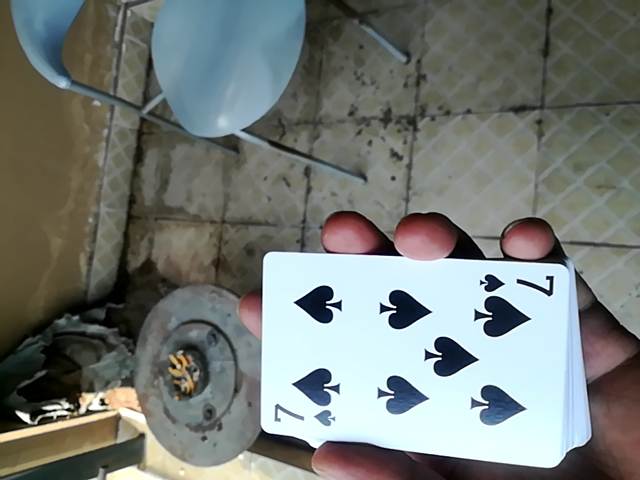ht 7: (250, 247, 585, 474)
